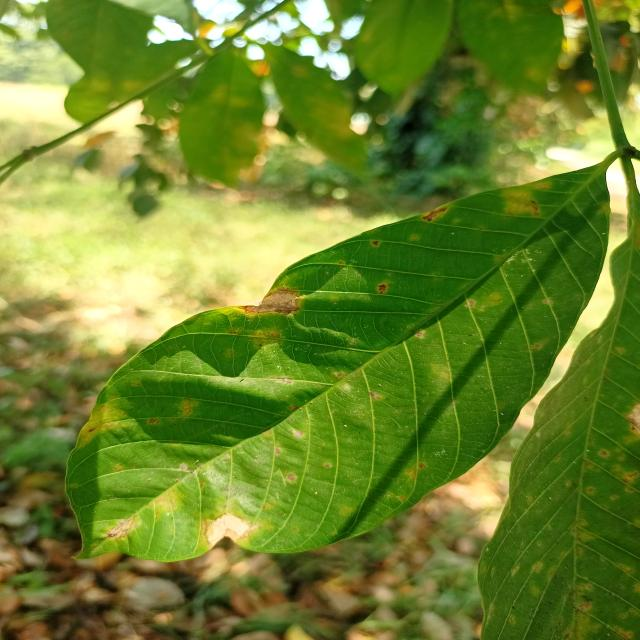Leaf-Blight: (237, 285, 301, 316), (202, 512, 253, 548), (627, 400, 640, 438), (106, 520, 131, 539)
